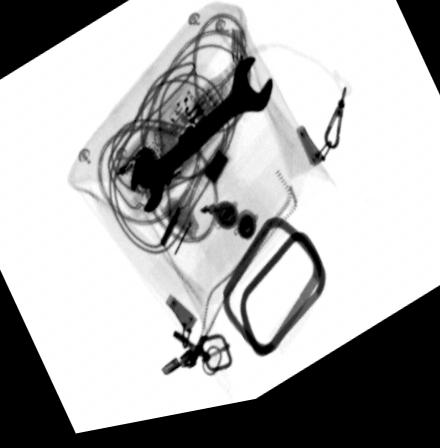Wrench: (130, 64, 276, 222)
